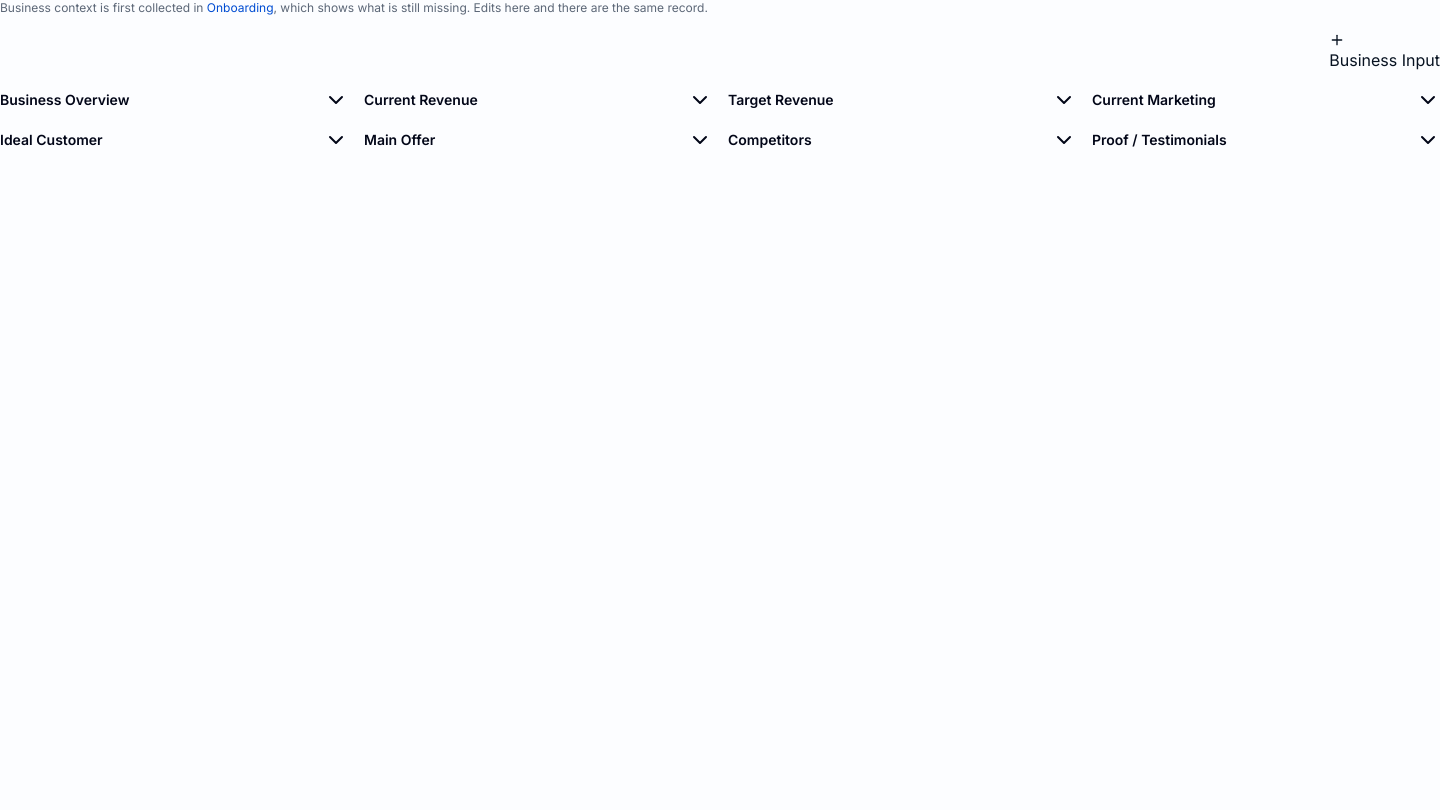
Test: drafting the business context › researches the client and fills the form
Click the button "Business Input".
click(1385, 52)  # box x1=1329 y1=32 x2=1439 y2=72
(page scrolled)
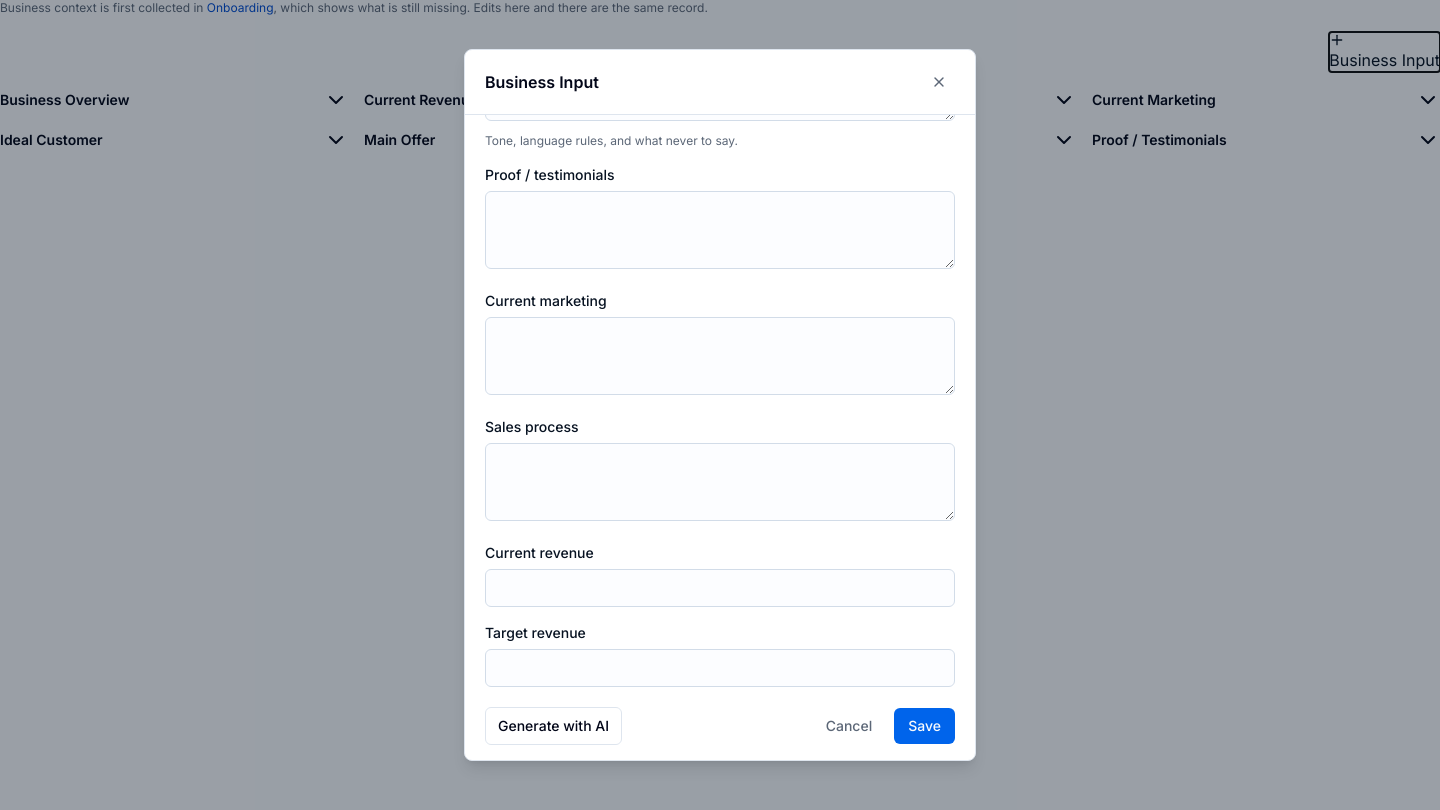
Click the button "Generate with AI".
click(554, 726)  # box x1=485 y1=707 x2=622 y2=745
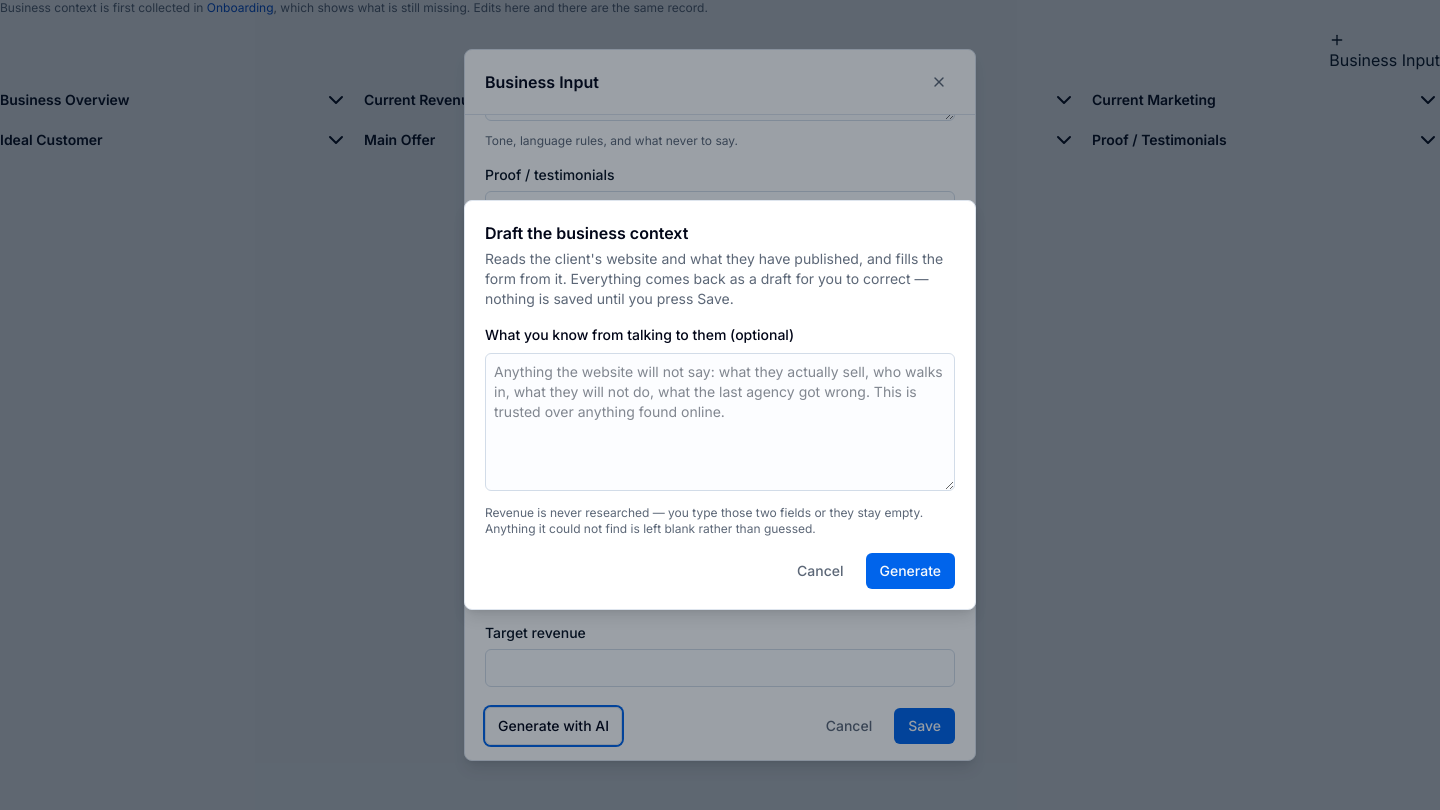
Click the button "Generate".
click(910, 571)  # box x1=866 y1=553 x2=955 y2=589
(page scrolled)
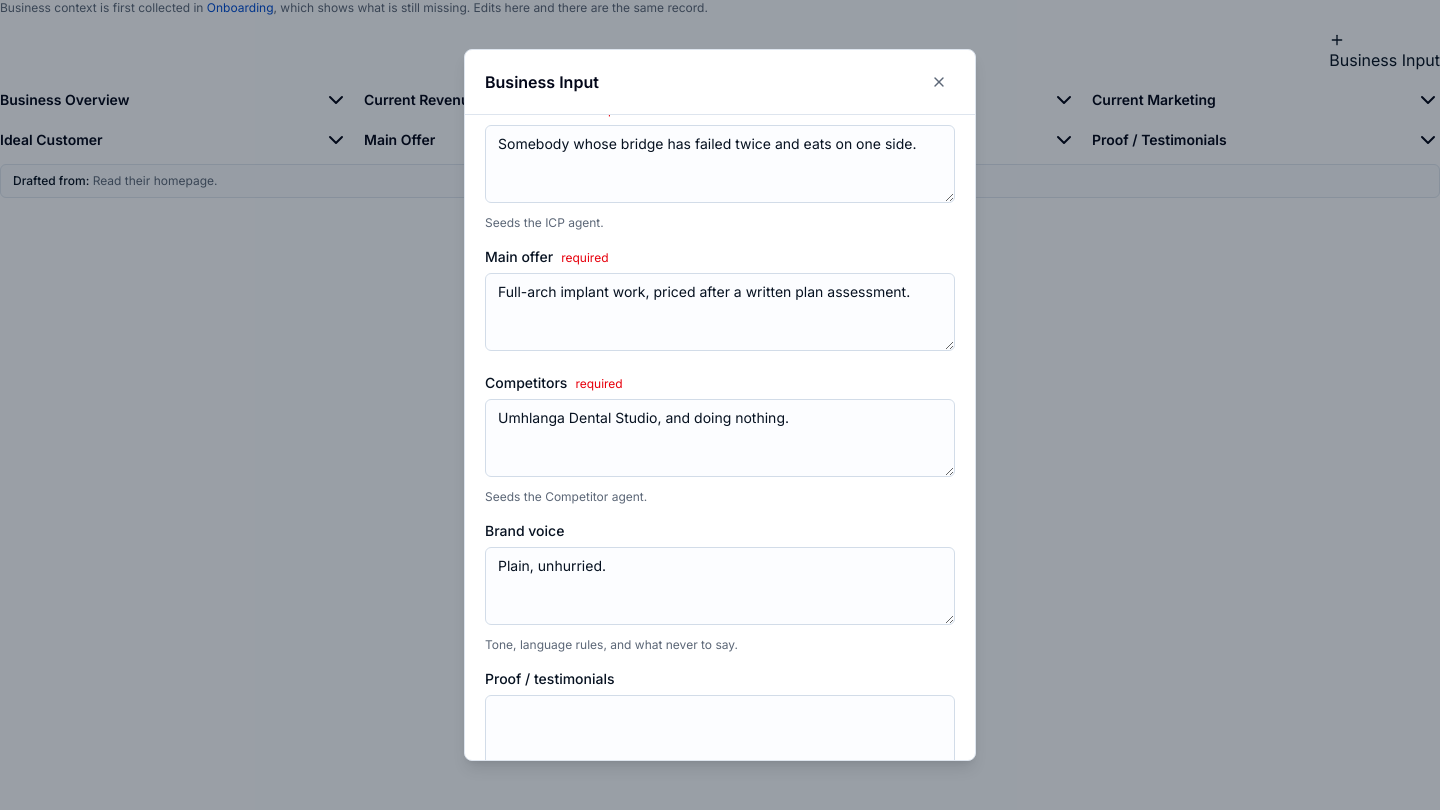
Now the text box showing "Umhlanga Dental Studio, and doing nothing." is shown, box x1=485 y1=399 x2=955 y2=477
